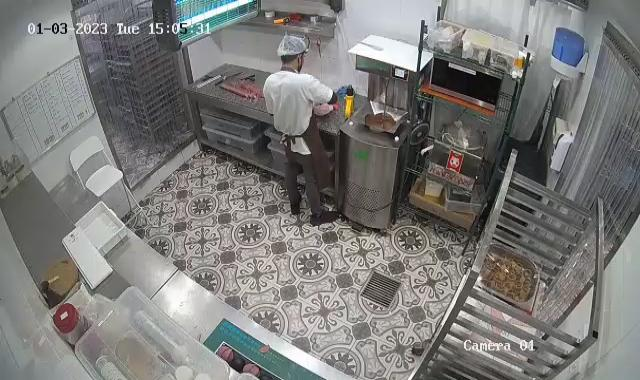hairnet: (276, 31, 306, 63)
